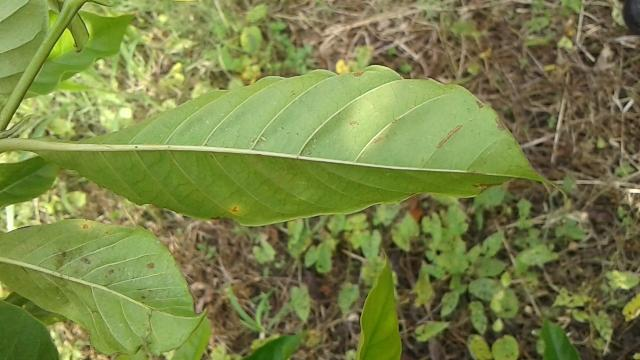rust_level_1: (30, 60, 574, 230)
